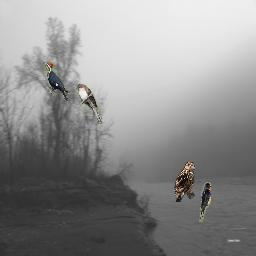Cuckoo: (76, 84, 102, 124)
Sparrow: (174, 162, 195, 202)
Swallow: (199, 182, 211, 222)
Woodpecker: (43, 62, 68, 102)
